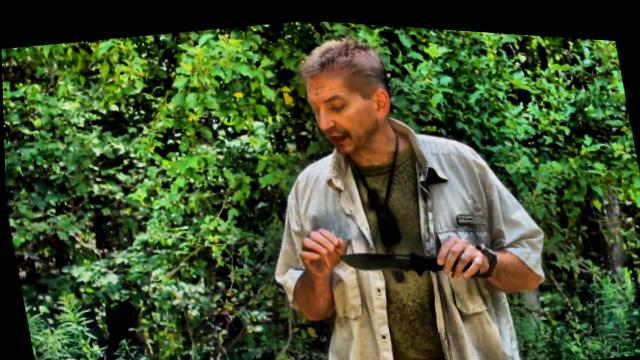knife: (334, 226, 485, 294)
